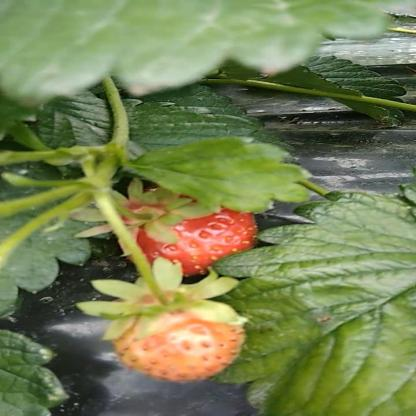ripe: (110, 182, 265, 276)
unripe: (104, 294, 248, 387)
